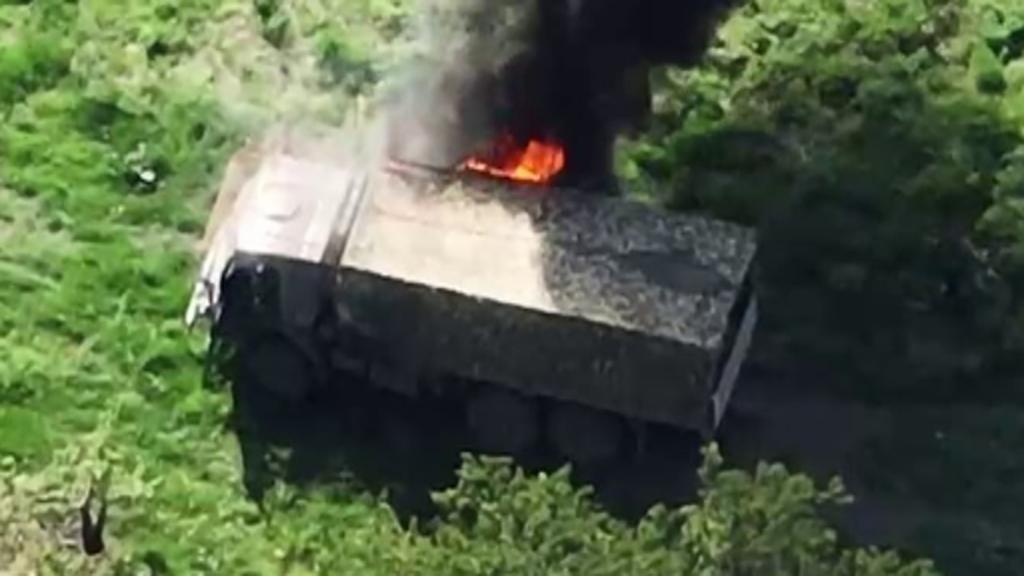TRUCK: (172, 134, 768, 467)
